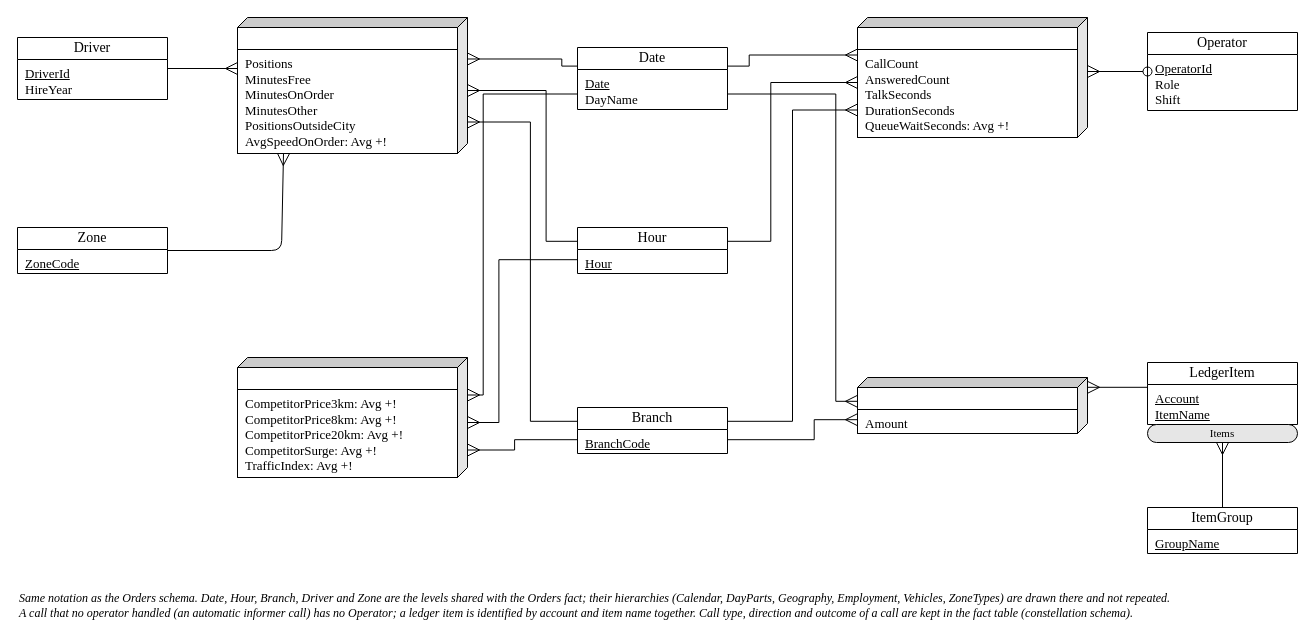
This 1315x641 diagram has some shape labels left out. The box of each missing label's shape, as (x1, y1, x2, y2) in pixels:
Calls: (856, 26, 1078, 138)
FleetActivity: (236, 26, 458, 154)
Ledger: (856, 386, 1078, 434)
MarketHourly: (236, 366, 458, 478)
